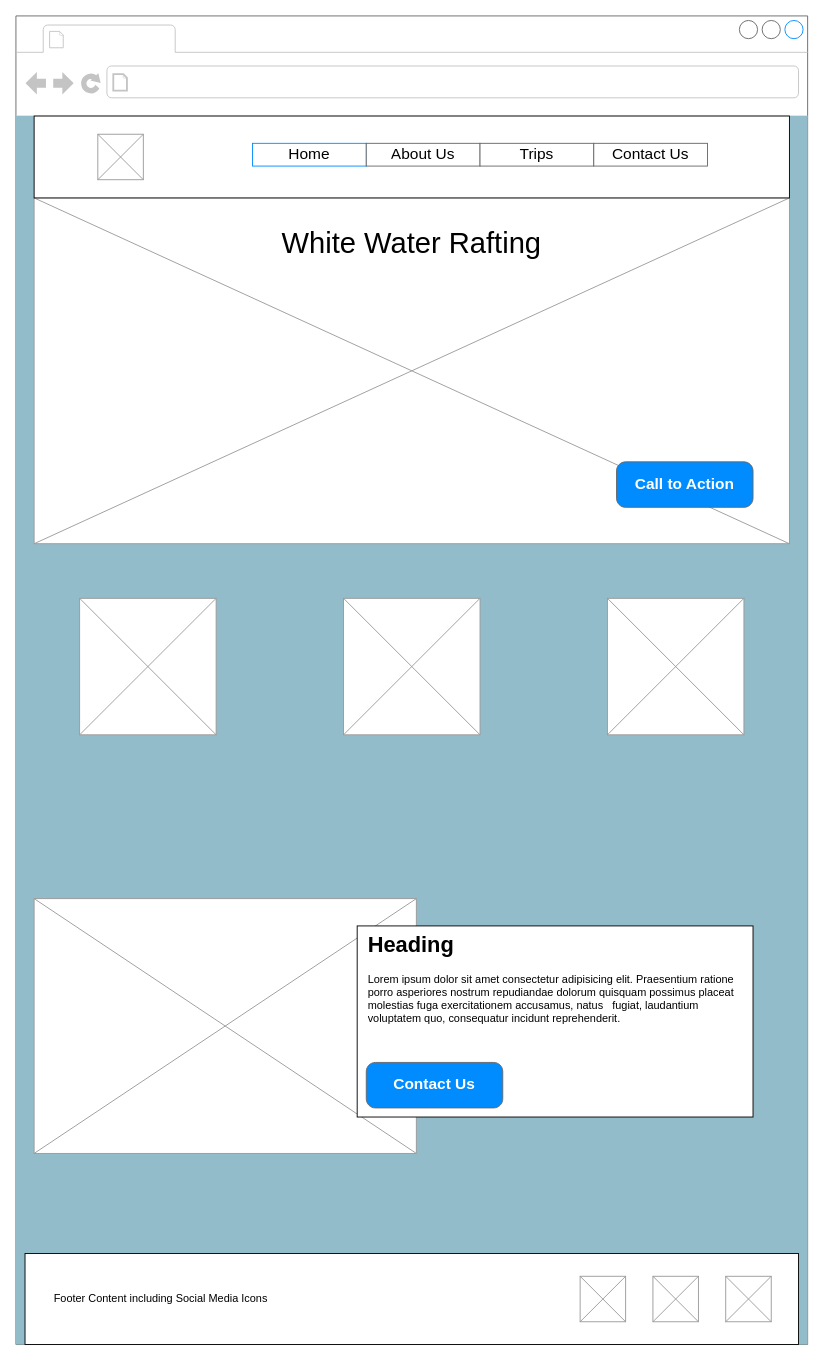
Image size: 824x1360. Some labels were removed from this diagram. The shapes that lost their labels are listed below. From the top down, each one's centre as x and y in pixels, then its label:
[120,38]: Page 1
[247,82]: https://www.draw.io
